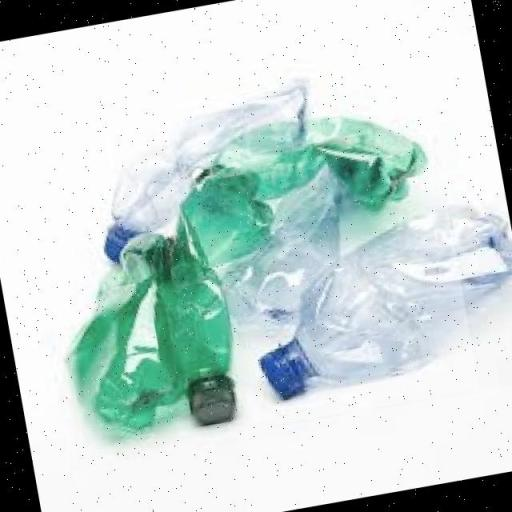plastic: (122, 88, 481, 442), (239, 192, 512, 426), (71, 78, 337, 258)
